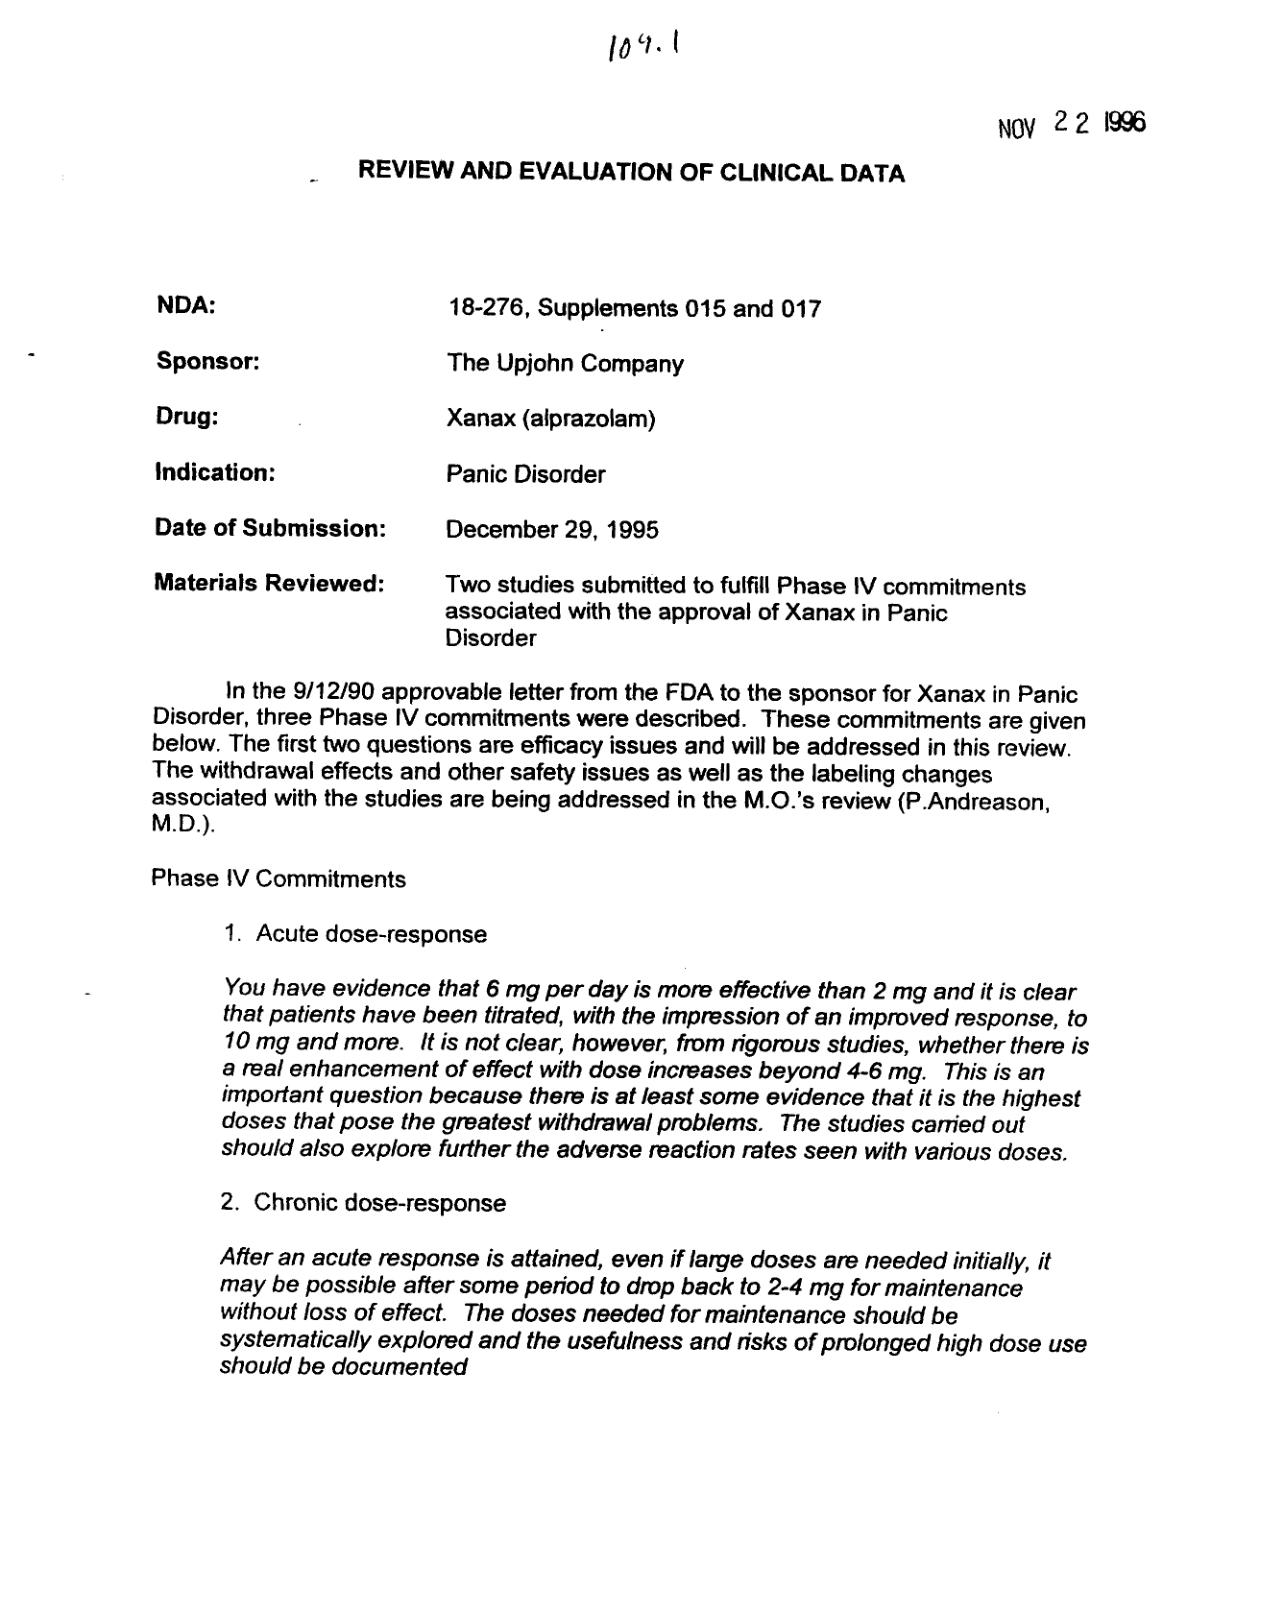nolines: (153, 291, 1025, 651)
